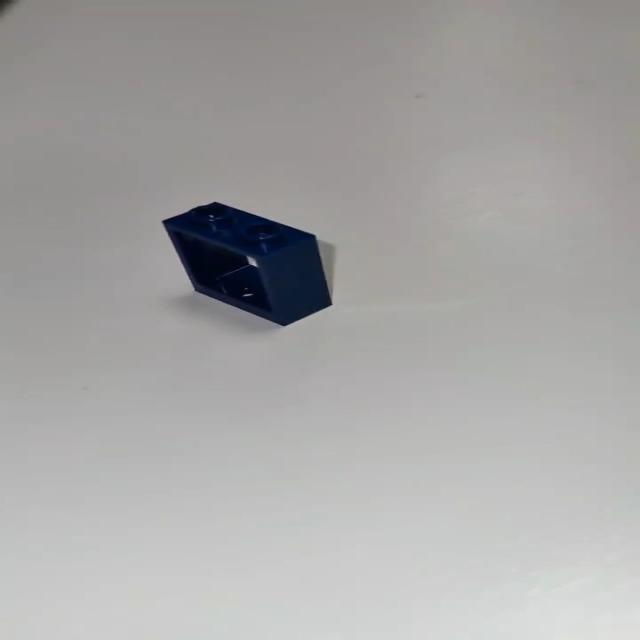W2x1x2: (146, 196, 344, 322)
